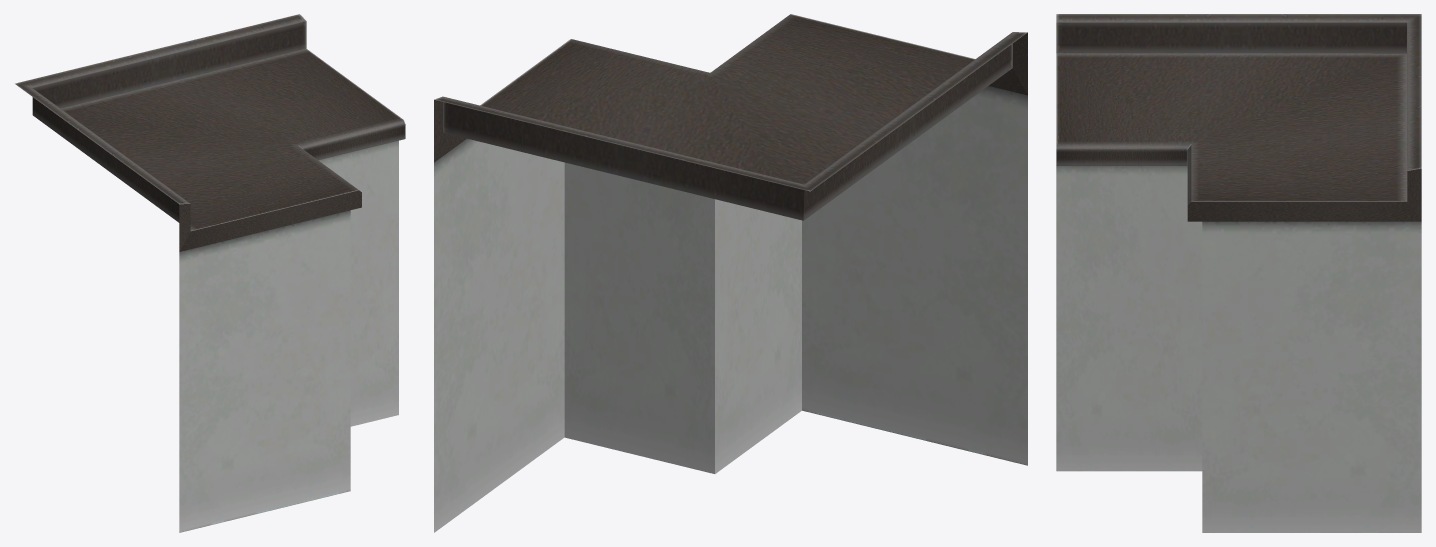
The model's file is corporate_corner_cabinet.fbx.
The picture shows the model from 3 angles, left to right: view 1: azimuth 30°, elevation 25°; view 2: azimuth 150°, elevation 25°; view 3: azimuth 270°, elevation 25°; orthographic projection. The views are drawn at different scales.
Parts seen in each view (by area): view 1: mesh_0; view 2: mesh_0; view 3: mesh_0.
Boxes of the visible parts, box(x1,y1,x2,y2) form: mesh_0: box(15, 14, 405, 532); mesh_0: box(434, 14, 1027, 532); mesh_0: box(1056, 14, 1421, 532).
Bounding box in the file's own units: 100 × 110 × 100.
1 material, 1 textured.
